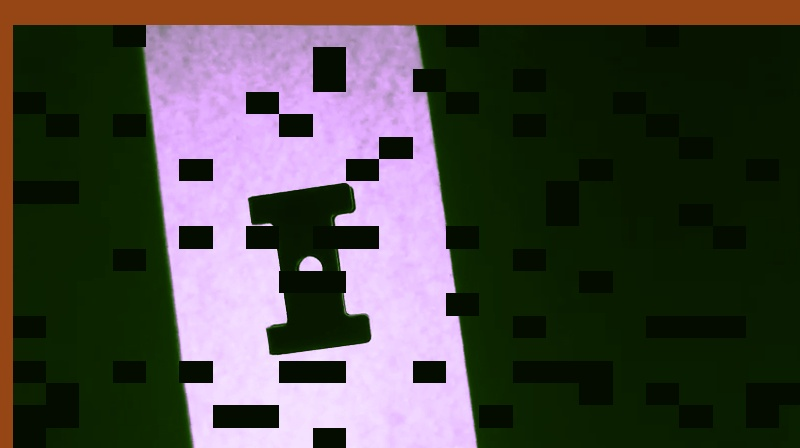O002: (240, 179, 374, 356)
